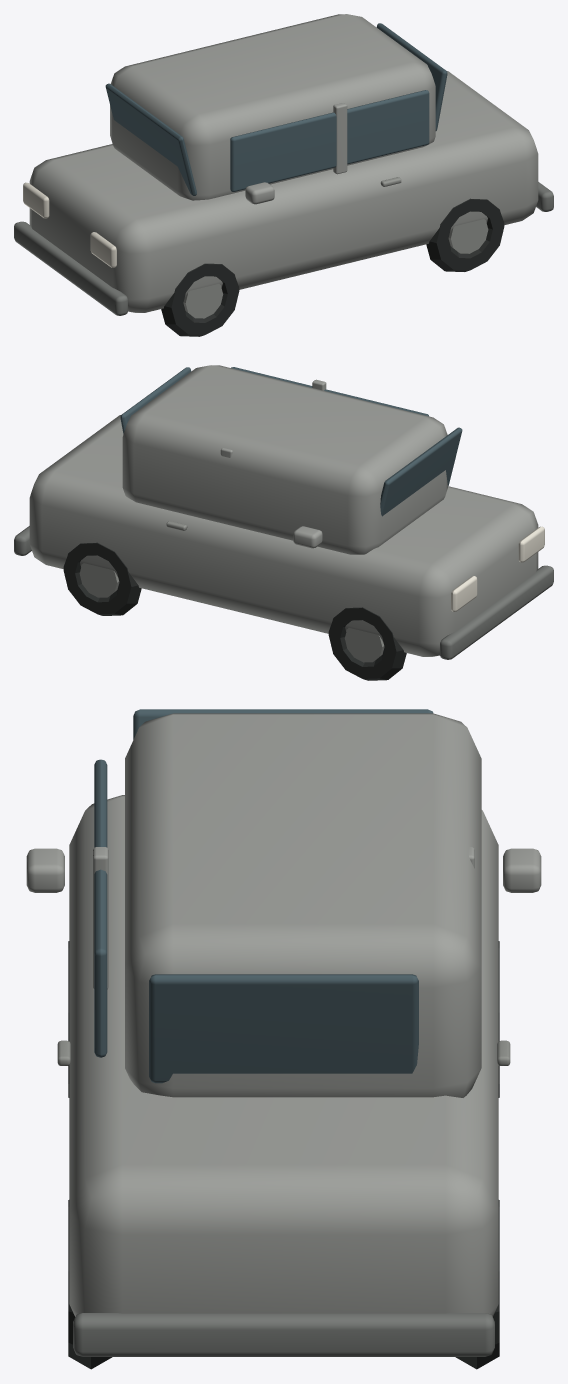
The model's file is kilmore_hatchback_c.glb.
The picture shows the model from 3 angles, top to bottom: view 1: azimuth 30°, elevation 25°; view 2: azimuth 150°, elevation 25°; view 3: azimuth 270°, elevation 25°; orthographic projection. The views are drawn at different scales.
Parts seen in each view (by area): view 1: SM_Kilmore_ParkedHatchback_C_CombinedMesh; view 2: SM_Kilmore_ParkedHatchback_C_CombinedMesh; view 3: SM_Kilmore_ParkedHatchback_C_CombinedMesh.
Part boxes in pixels (<box>): SM_Kilmore_ParkedHatchback_C_CombinedMesh: <box>14,14,553,336</box>; SM_Kilmore_ParkedHatchback_C_CombinedMesh: <box>14,365,553,680</box>; SM_Kilmore_ParkedHatchback_C_CombinedMesh: <box>26,709,541,1369</box>.
Bounding box in the file's own units: 4.2 × 1.86 × 2.14.
